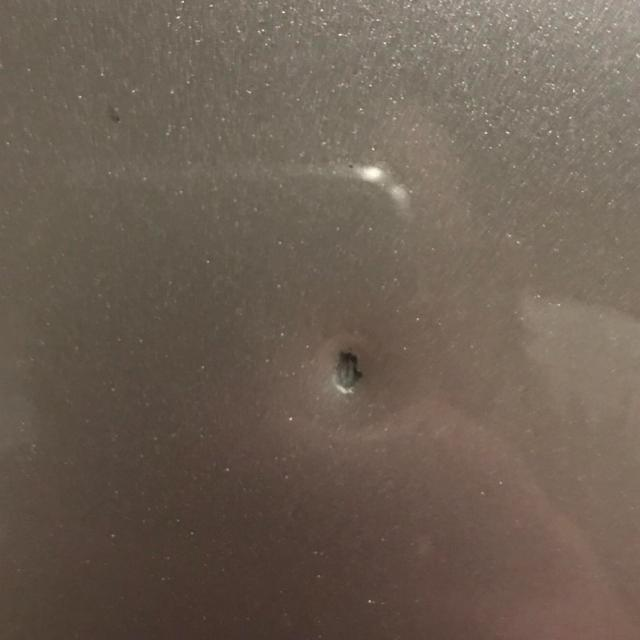dents: (317, 314, 409, 436)
